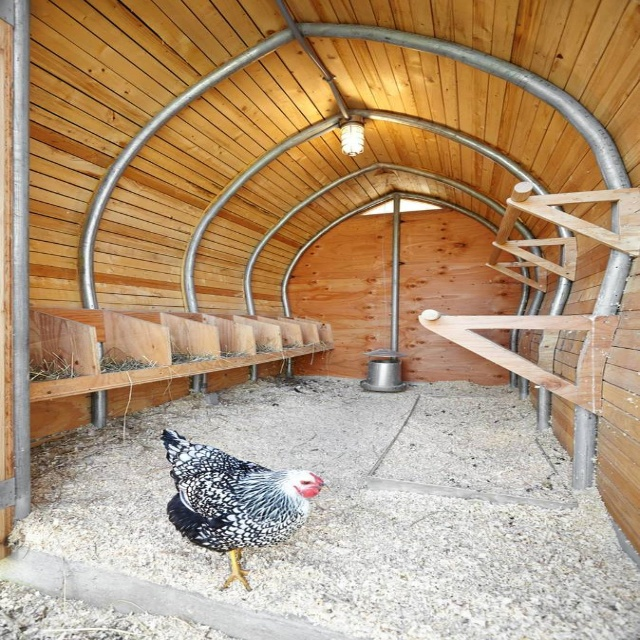Chicken: (152, 424, 317, 590)
